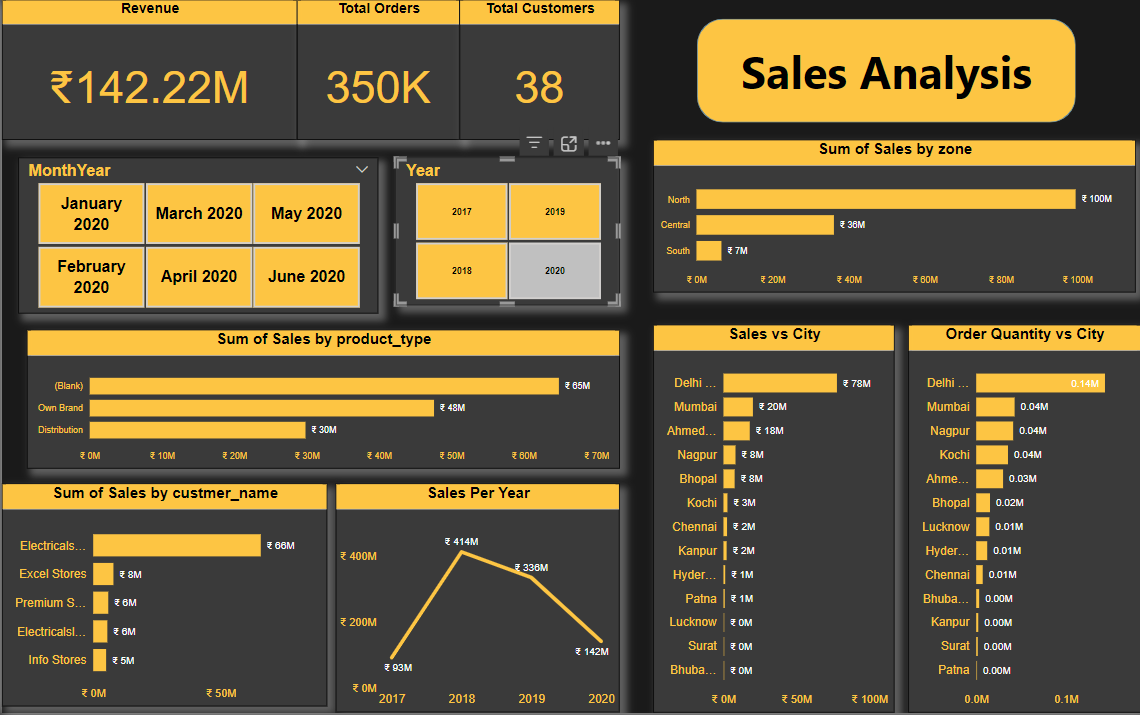

Layout of this report page (visuals, bound fields, positions):
{"tool":"powerbi","page":{"name":"Page 1","canvas":[1530,950],"ordinal":0},"visuals":[{"type":"card","title":"Revenue","fields":{"Values":["sales customers.Total_Revenue"]},"box":[0,0,393.3,186.7],"z":0},{"type":"card","title":"Total Orders ","fields":{"Values":["sales customers.Total_Quantity"]},"box":[393.3,0,216.7,186.7],"z":1000},{"type":"card","title":"Total Customers ","fields":{"Values":["sales customers.Total_Customers"]},"box":[610,0,213.3,186.7],"z":2000},{"type":"slicer","fields":{"Values":["sales date.Year"]},"box":[525,210,298.3,196.7],"z":3000},{"type":"slicer","fields":{"Values":["sales date.MonthYear"]},"box":[21.7,210,480,208.3],"z":4000},{"type":"barChart","title":"Sales vs City","fields":{"Category":["sales markets.markets_name"],"Y":["Sum(sales transactions.Normalised_currency)"]},"box":[868.3,433.3,321.7,516.7],"z":5000},{"type":"barChart","fields":{"Category":["sales customers.custmer_name"],"Y":["Sum(sales transactions.Sales)"]},"box":[0,645,433.3,296.7],"z":6000},{"type":"barChart","fields":{"Category":["sales products.product_type"],"Y":["Sum(sales transactions.Sales)"]},"box":[33.3,440,790,185],"z":7000},{"type":"barChart","fields":{"Category":["sales markets.zone"],"Y":["Sum(sales transactions.Sales)"]},"box":[868.3,186.7,643.3,203.3],"z":8000},{"type":"barChart","title":"Order Quantity vs City","fields":{"Category":["sales markets.markets_name"],"Y":["Sum(sales transactions.sales_qty)"]},"box":[1208.3,433.3,310,516.7],"z":9000},{"type":"lineChart","title":"Sales Per Year ","fields":{"Y":["Sum(sales transactions.Sales)"],"Category":["sales date.date.Variation.Date Hierarchy.Year","sales date.date.Variation.Date Hierarchy.Quarter","sales date.date.Variation.Date Hierarchy.Month","sales date.date.Variation.Date Hierarchy.Day"]},"box":[445,645,378.3,305],"z":10000},{"type":"shape","box":[926.7,25,505,138.3],"z":10001}]}

Visuals, with their boxes in screenshot pixels (x1, y1, x2, y2), scaled from the page's 1530x950 canvas onto the 1140x715 screenshot:
"Revenue" card: (left=0, top=0, right=293, bottom=141)
"Total Orders " card: (left=293, top=0, right=455, bottom=141)
"Total Customers " card: (left=455, top=0, right=613, bottom=141)
slicer - sales date.Year: (left=391, top=158, right=613, bottom=306)
slicer - sales date.MonthYear: (left=16, top=158, right=374, bottom=315)
"Sales vs City" barChart: (left=647, top=326, right=887, bottom=714)
barChart - sales customers.custmer_name x Sum(sales transactions.Sales): (left=0, top=485, right=323, bottom=709)
barChart - sales products.product_type x Sum(sales transactions.Sales): (left=25, top=331, right=613, bottom=470)
barChart - sales markets.zone x Sum(sales transactions.Sales): (left=647, top=141, right=1126, bottom=294)
"Order Quantity vs City" barChart: (left=900, top=326, right=1131, bottom=714)
"Sales Per Year " lineChart: (left=332, top=485, right=613, bottom=714)
shape: (left=690, top=19, right=1067, bottom=123)
